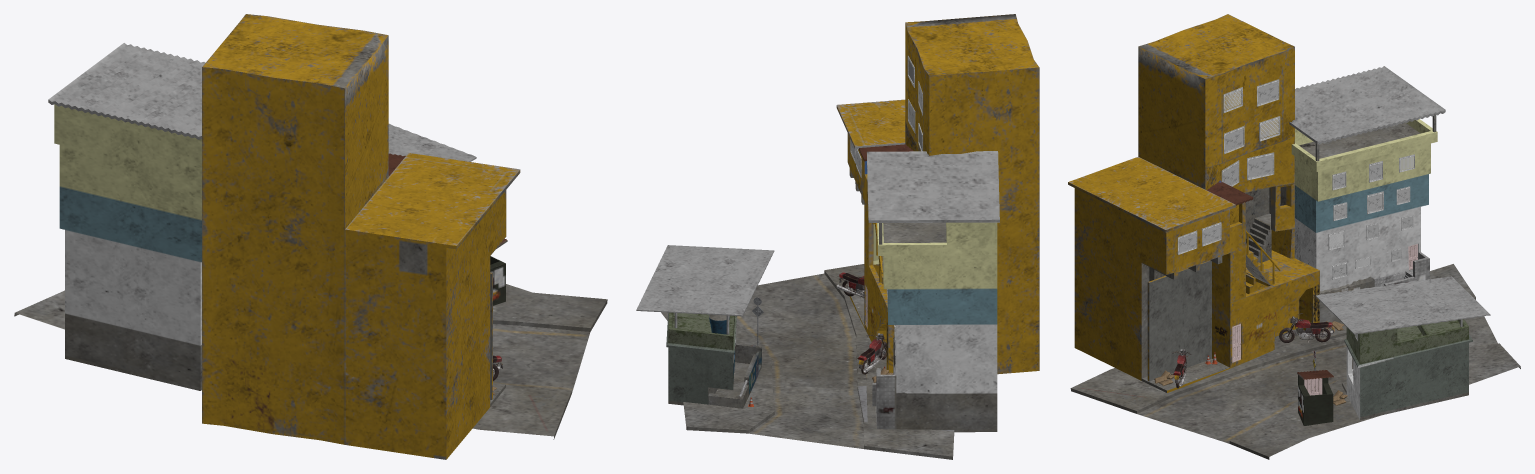
3 renders of one model, left to right at view 1: azimuth 30°, elevation 25°; view 2: azimuth 150°, elevation 25°; view 3: azimuth 270°, elevation 25°, orthographic. The views are drawn at different scales.
Visible parts, largest first — view 1: Box225, Box001, Plane004, Box007, Box008; view 2: Box001, Box225, Plane004, Box007; view 3: Box225, Box001, Plane004, Box007, Box226, Box008, Plane001, Box227, Plane003.
Part boxes in pixels (x1,y1,x2,y2): Box225: (202,14,520,459); Box001: (48,43,205,390); Plane004: (14,284,607,439); Box007: (388,123,476,161); Box008: (490,239,507,305); Box001: (866,151,999,432); Box225: (836,14,1039,374); Plane004: (661,264,954,459); Box007: (636,245,774,408); Box225: (1068,14,1319,392); Box001: (1289,66,1445,339); Plane004: (1070,264,1520,459); Box007: (1315,276,1490,420); Box226: (1147,260,1211,381); Box008: (1297,370,1333,425); Plane001: (1246,218,1271,262); Box227: (1206,181,1253,205); Plane003: (1246,245,1274,285).
Bounding box in the file's own units: 16.75 × 11.91 × 17.33.
Materials: 8 (7 with a texture image).
